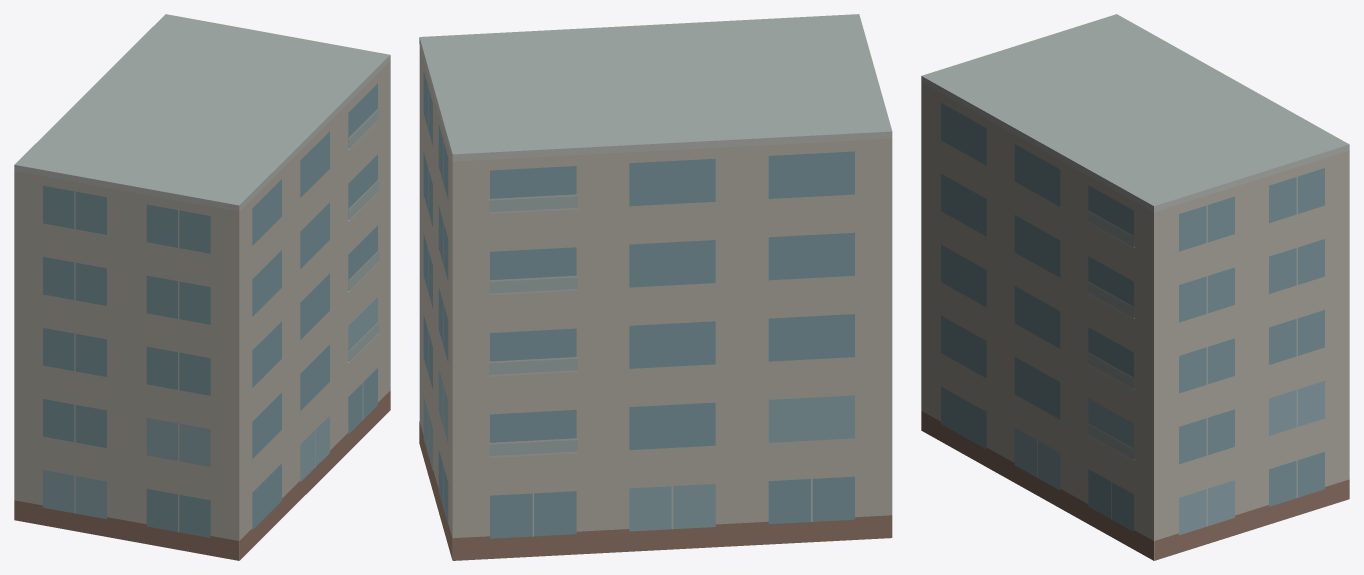
Rendered from survey-upis-32984685.glb.
The picture shows the model from 3 angles, left to right: view 1: azimuth 30°, elevation 25°; view 2: azimuth 150°, elevation 25°; view 3: azimuth 270°, elevation 25°; orthographic projection. The views are drawn at different scales.
Parts seen in each view (by area): view 1: survey-upis-32984685.tmp; view 2: survey-upis-32984685.tmp; view 3: survey-upis-32984685.tmp.
Boxes of the visible parts, x1,y1,x2,y2 form: survey-upis-32984685.tmp: (14, 14, 390, 560); survey-upis-32984685.tmp: (419, 14, 892, 560); survey-upis-32984685.tmp: (921, 14, 1349, 560).
Size of the model in its own units: 16.49 by 14.18 by 15.53.
